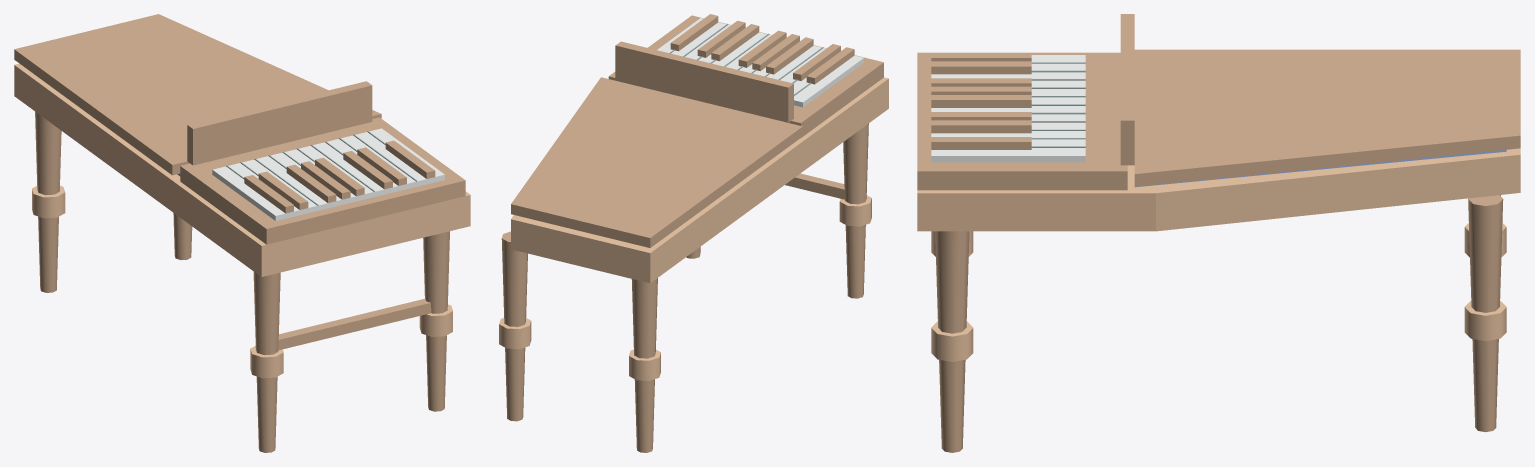
File: harpsichord.glb
3 views of the same model, side by side, from view 1: azimuth 30°, elevation 25°; view 2: azimuth 150°, elevation 25°; view 3: azimuth 270°, elevation 25° (orthographic). The views are drawn at different scales.
Visible parts, largest first — view 1: harpsichord; view 2: harpsichord; view 3: harpsichord.
Boxes of the visible parts, bbox=[...] form: harpsichord: bbox=[14, 14, 470, 452]; harpsichord: bbox=[499, 14, 888, 452]; harpsichord: bbox=[917, 14, 1520, 452].
Size of the model in its own units: 0.42 by 0.52 by 0.86.
